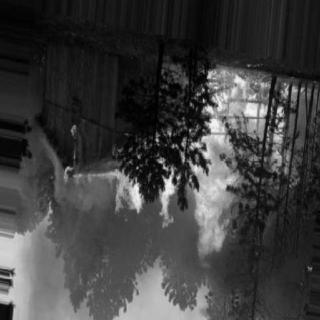Fire: (154, 54, 302, 268), (60, 121, 152, 222)
